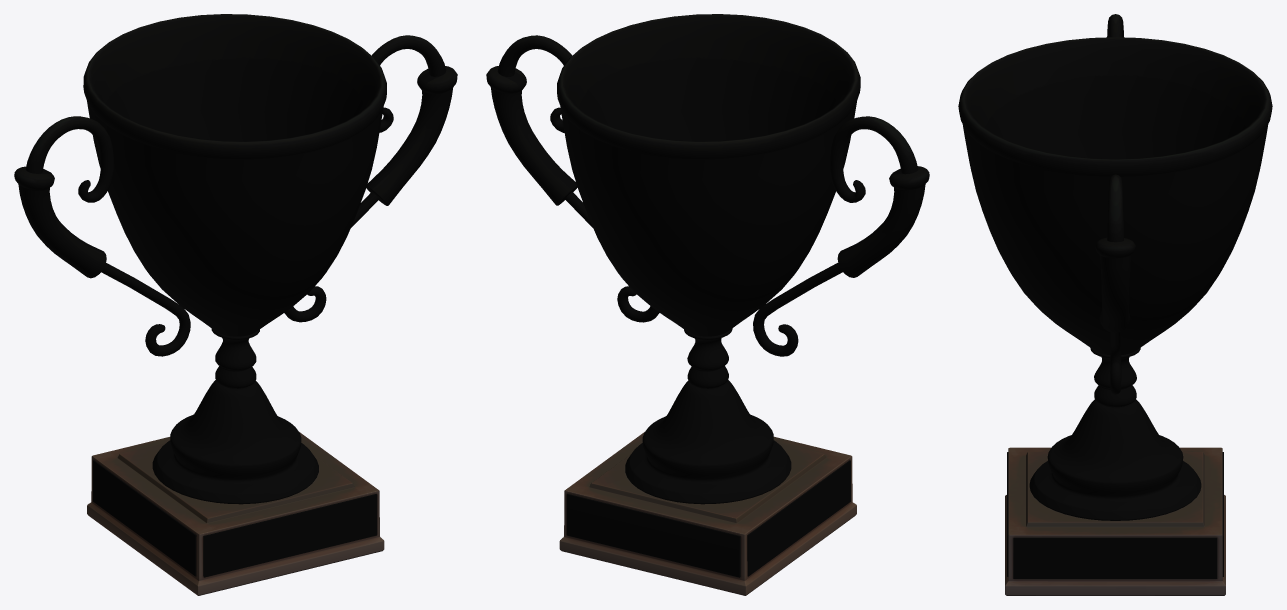
Rendered from Trophy.glb.
The picture shows the model from 3 angles, left to right: view 1: azimuth 30°, elevation 25°; view 2: azimuth 150°, elevation 25°; view 3: azimuth 270°, elevation 25°; orthographic projection.
Visible parts, largest first — view 1: trophy.1; view 2: trophy.1; view 3: trophy.1.
Boxes of the visible parts, x1,y1,x2,y2 form: trophy.1: [14, 14, 457, 595]; trophy.1: [486, 14, 929, 595]; trophy.1: [958, 14, 1272, 595].
Size of the model in its own units: 0.1055 by 0.105 by 0.0659.
1 material, 1 textured.
